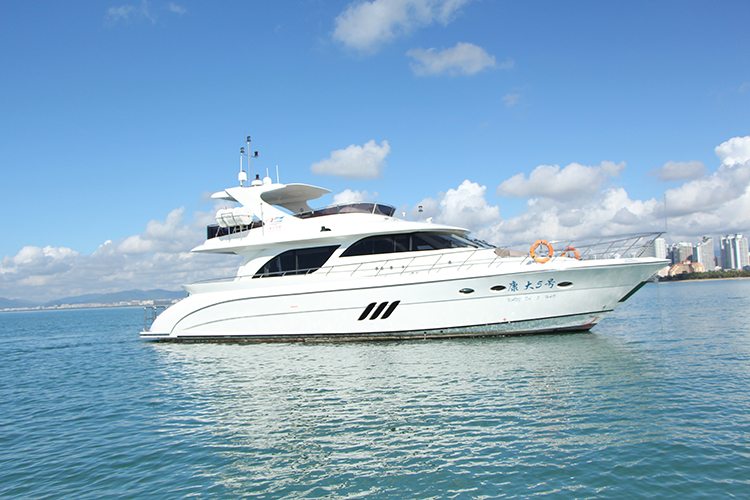yacht: (127, 171, 670, 348)
